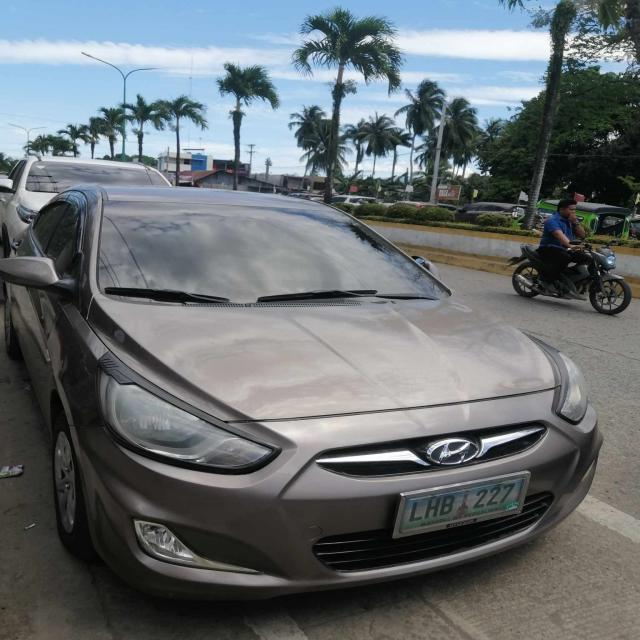license-plate: (398, 476, 528, 535)
